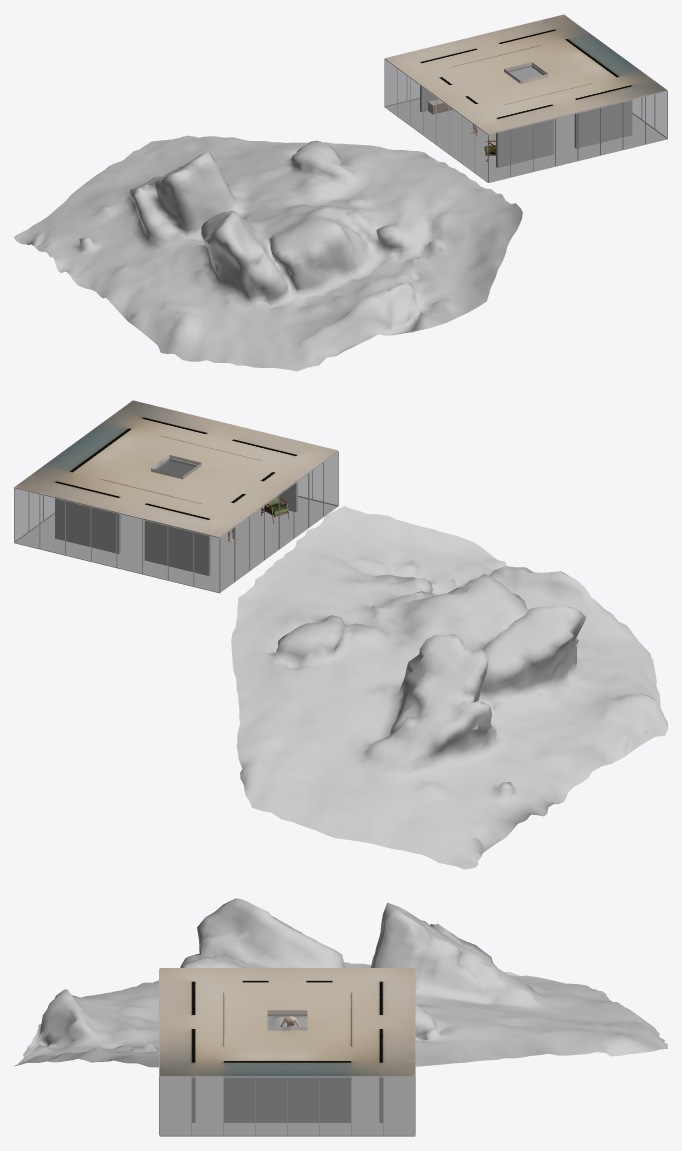
File: Lobby_Custom_02.fbx
The picture shows the model from 3 angles, top to bottom: view 1: azimuth 30°, elevation 25°; view 2: azimuth 150°, elevation 25°; view 3: azimuth 270°, elevation 25°; orthographic projection. The views are drawn at different scales.
Parts seen in each view (by area): view 1: MountainRocks01_LOD0, celling, glass, floor, walls, window; view 2: MountainRocks01_LOD0, celling, glass, floor, walls, window; view 3: MountainRocks01_LOD0, celling, glass, floor, walls, window.
Boxes of the visible parts, x1,y1,x2,y2 form: MountainRocks01_LOD0: (14, 135, 522, 371); celling: (385, 14, 666, 133); glass: (384, 60, 667, 181); floor: (385, 98, 666, 181); walls: (420, 67, 632, 167); window: (384, 58, 667, 182); MountainRocks01_LOD0: (231, 506, 667, 869); celling: (15, 400, 337, 536); glass: (14, 453, 337, 591); floor: (15, 497, 336, 591); walls: (55, 461, 297, 575); window: (14, 451, 338, 593); MountainRocks01_LOD0: (14, 898, 667, 1067); celling: (159, 968, 415, 1075); glass: (160, 1017, 414, 1134); floor: (160, 1076, 414, 1135); walls: (192, 1076, 382, 1122); window: (159, 969, 415, 1136).
Size of what is drawn, in the model's own units: 271 by 88.87 by 256.
